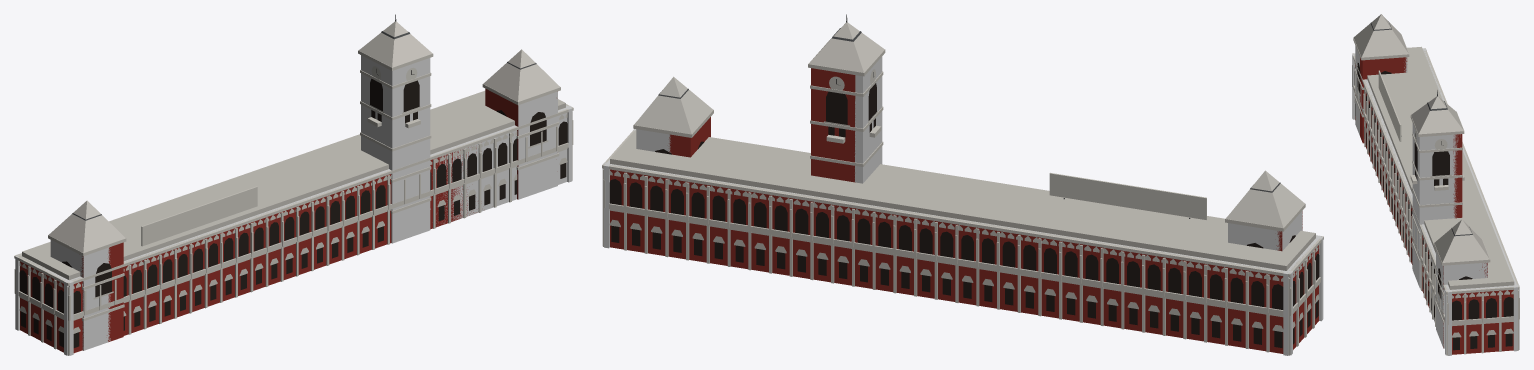
File: chennai-central.glb
3 renders of one model, left to right at view 1: azimuth 30°, elevation 25°; view 2: azimuth 150°, elevation 25°; view 3: azimuth 270°, elevation 25°, orthographic. The views are drawn at different scales.
Parts seen in each view (by area): view 1: LOD0, COL_06, COL_00, COL_05, COL_04, COL_01; view 2: LOD0, COL_06, COL_04, COL_02, COL_05, COL_03; view 3: LOD0, COL_06, COL_05, COL_00, COL_02, COL_04, COL_01, COL_03.
Boxes of the visible parts, box(x1,y1,x2,y2) form: LOD0: box(14, 14, 573, 355); COL_06: box(361, 55, 430, 243); COL_00: box(64, 105, 572, 355); COL_05: box(518, 91, 557, 199); COL_04: box(50, 240, 110, 350); COL_01: box(566, 105, 572, 182); LOD0: box(602, 14, 1323, 355); COL_06: box(854, 56, 882, 183); COL_04: box(1228, 211, 1302, 250); COL_02: box(602, 162, 1292, 355); COL_05: box(636, 129, 670, 152); COL_03: box(1283, 235, 1321, 355); LOD0: box(1352, 14, 1519, 355); COL_06: box(1412, 123, 1460, 288); COL_05: box(1436, 251, 1487, 348); COL_00: box(1354, 53, 1451, 355); COL_02: box(1423, 48, 1517, 351); COL_04: box(1355, 46, 1407, 135); COL_01: box(1445, 284, 1519, 355); COL_03: box(1352, 49, 1426, 119).
Size of what is drawn, in the model's own units: 115 by 41.3 by 33.42.
